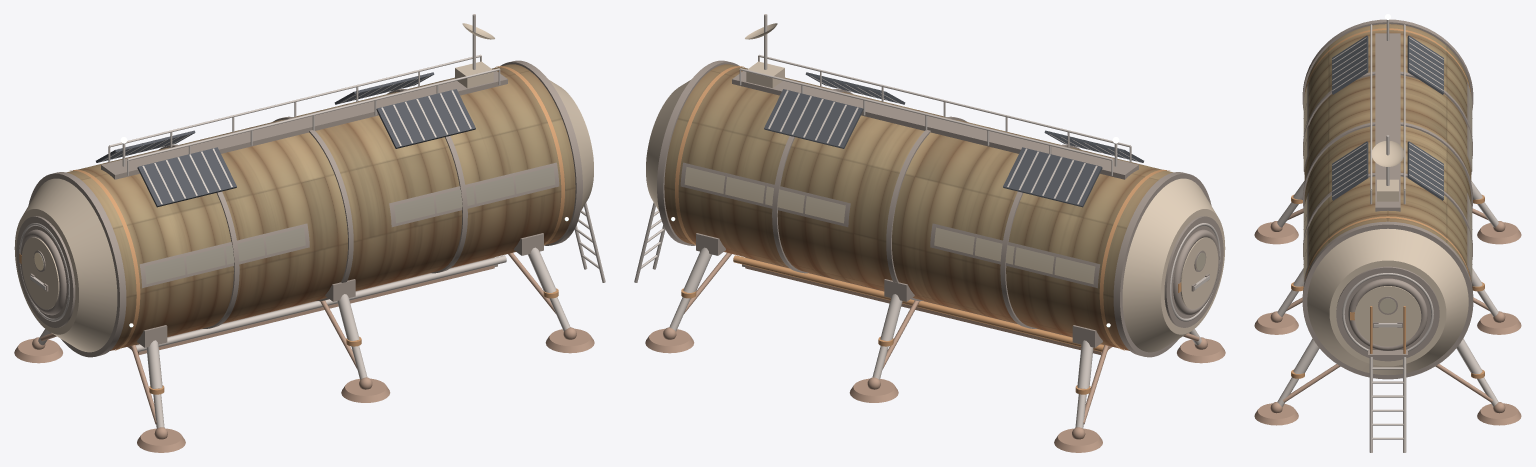
File: W02_plain.glb
3 renders of one model, left to right at view 1: azimuth 30°, elevation 25°; view 2: azimuth 150°, elevation 25°; view 3: azimuth 270°, elevation 25°, orthographic. The views are drawn at different scales.
Visible parts, largest first — view 1: hull, endcone (×2), radiator_panel (×4), window_strip (×2), roof_spine, joint_ring (×2), footpad (×4), rib (×3), window_frame (×2), roof_rail (×2), pipe, end_ring (+7 smaller); view 2: hull, endcone (×2), radiator_panel (×4), window_strip (×2), roof_spine, joint_ring (×2), footpad (×4), rib (×3), window_frame (×2), roof_rail (×2), pipe, end_ring (+7 smaller); view 3: hull, endcone, radiator_panel (×4), footpad (×6), joint_ring (×2), roof_spine, hatch_door, end_ring, rib (×3), access_ladder, hatch_frame, window_strip (×4) (+7 smaller).
Boxes of the visible parts, <box> form: hull: <box>66,64,575,350</box>; endcone (×2): <box>14,79,593,352</box>; radiator_panel (×4): <box>96,72,475,207</box>; window_strip (×2): <box>144,167,555,284</box>; roof_spine: <box>101,69,507,179</box>; joint_ring (×2): <box>28,60,582,357</box>; footpad (×4): <box>14,328,594,452</box>; rib (×3): <box>158,89,467,328</box>; window_frame (×2): <box>139,162,559,288</box>; roof_rail (×2): <box>108,54,500,175</box>; pipe: <box>131,255,506,351</box>; end_ring: <box>16,216,75,327</box>; hull: <box>664,64,1173,350</box>; endcone (×2): <box>646,79,1225,352</box>; radiator_panel (×4): <box>764,72,1143,207</box>; window_strip (×2): <box>684,167,1095,284</box>; roof_spine: <box>732,69,1138,179</box>; joint_ring (×2): <box>657,60,1211,357</box>; footpad (×4): <box>645,328,1225,452</box>; rib (×3): <box>772,89,1081,328</box>; window_frame (×2): <box>680,162,1100,288</box>; roof_rail (×2): <box>739,54,1131,175</box>; pipe: <box>733,255,1108,351</box>; end_ring: <box>1164,216,1223,327</box>; hull: <box>1304,24,1471,281</box>; endcone: <box>1307,228,1468,374</box>; radiator_panel (×4): <box>1332,35,1443,200</box>; footpad (×6): <box>1254,222,1521,425</box>; joint_ring (×2): <box>1302,19,1473,379</box>; roof_spine: <box>1375,33,1400,211</box>; hatch_door: <box>1354,286,1421,346</box>; end_ring: <box>1336,266,1439,361</box>; rib (×3): <box>1303,71,1472,259</box>; access_ladder: <box>1369,306,1406,452</box>; hatch_frame: <box>1348,278,1427,350</box>; window_strip (×4): <box>1303,86,1472,281</box>.
Size of the model in its own units: 10.52 by 5.25 by 4.8.
Materials: 11 (1 with a texture image).
